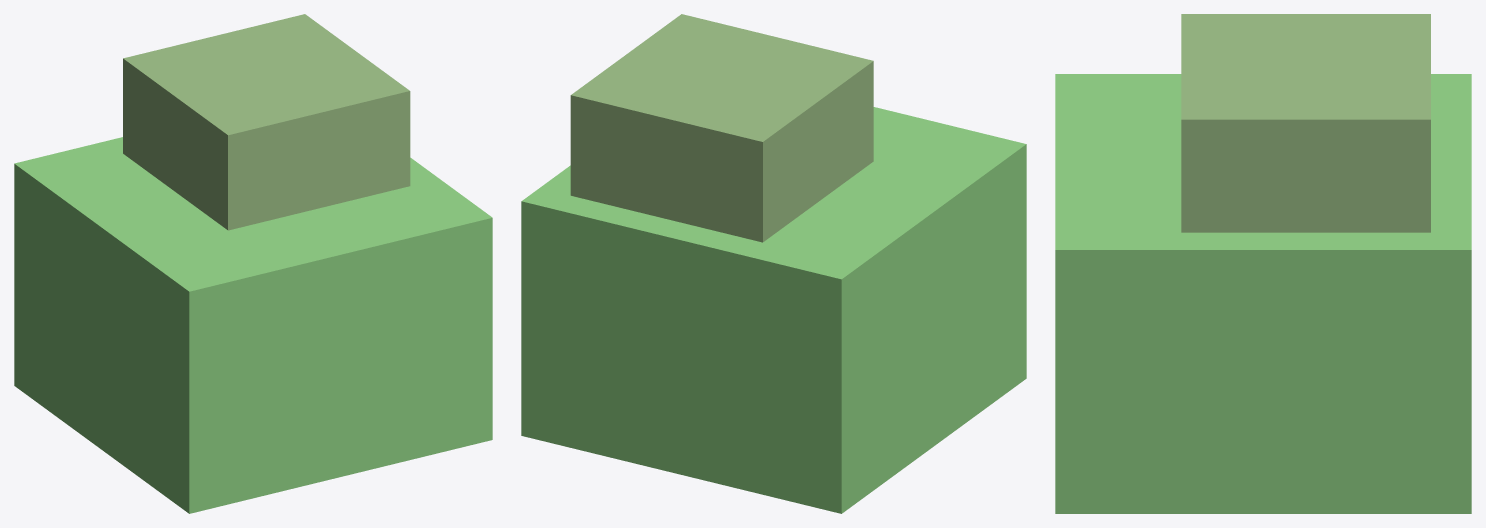
File: Prop_Dress_AMF_Bush_V1.glb
The picture shows the model from 3 angles, left to right: view 1: azimuth 30°, elevation 25°; view 2: azimuth 150°, elevation 25°; view 3: azimuth 270°, elevation 25°; orthographic projection. The views are drawn at different scales.
Visible parts, largest first — view 1: Prop_Dress_AMF_Bush_V1; view 2: Prop_Dress_AMF_Bush_V1; view 3: Prop_Dress_AMF_Bush_V1.
Boxes of the visible parts, x1,y1,x2,y2 form: Prop_Dress_AMF_Bush_V1: (14,14,492,513); Prop_Dress_AMF_Bush_V1: (521,14,1026,513); Prop_Dress_AMF_Bush_V1: (1055,14,1471,513).
Size of the model in its own units: 0.9766 by 0.9766 by 0.9766.
